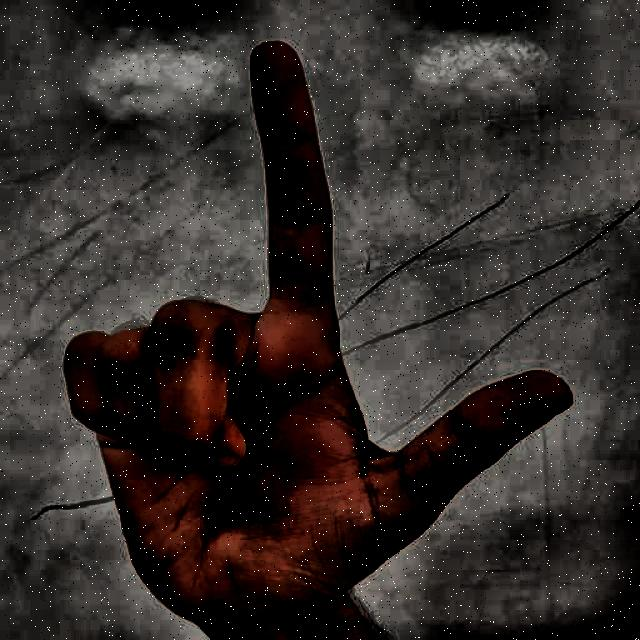La: (39, 13, 583, 638)
